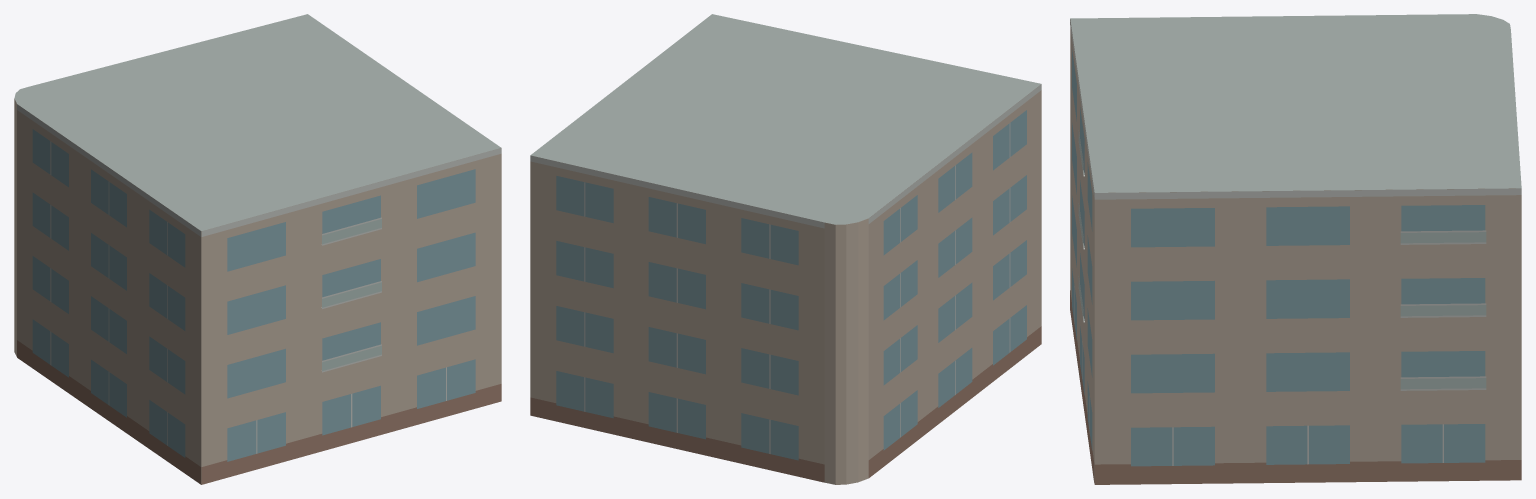
The model's file is survey-upis-32836833.glb.
3 views of the same model, side by side, from view 1: azimuth 30°, elevation 25°; view 2: azimuth 150°, elevation 25°; view 3: azimuth 270°, elevation 25° (orthographic). The views are drawn at different scales.
Parts seen in each view (by area): view 1: survey-upis-32836833.tmp; view 2: survey-upis-32836833.tmp; view 3: survey-upis-32836833.tmp.
Boxes of the visible parts, x1,y1,x2,y2 form: survey-upis-32836833.tmp: (14, 14, 501, 484); survey-upis-32836833.tmp: (530, 14, 1041, 484); survey-upis-32836833.tmp: (1070, 14, 1521, 484).
Bounding box in the file's own units: 13.81 × 10.5 × 14.72.
